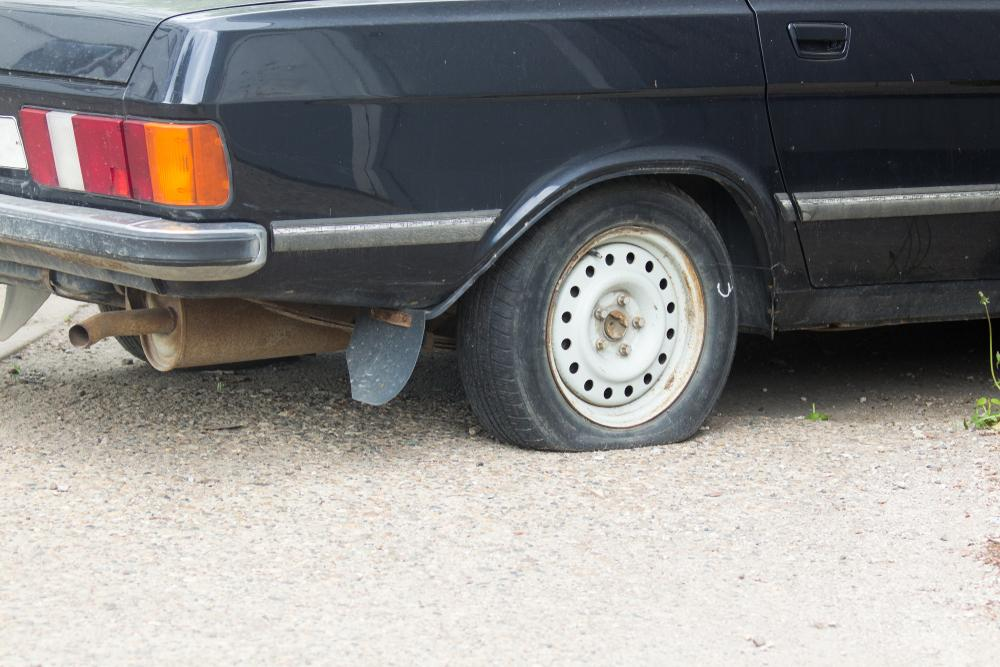tire flat: (457, 178, 741, 452)
